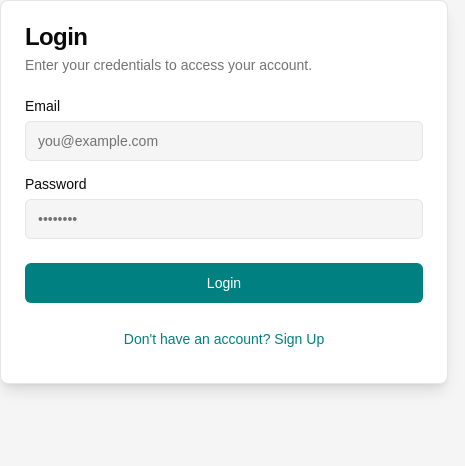
Test case: AuthForm validation › shows schema errors and does not authenticate invalid credentials
Type "invalid" into the field labelled "Email".
click(224, 141); type("invalid")  # box left=25, top=121, right=423, bottom=161
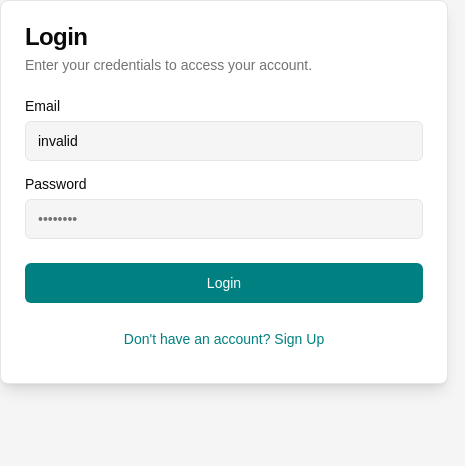
Type "short" into the password field labelled "Password".
click(224, 219); type("short")  # box left=25, top=199, right=423, bottom=239
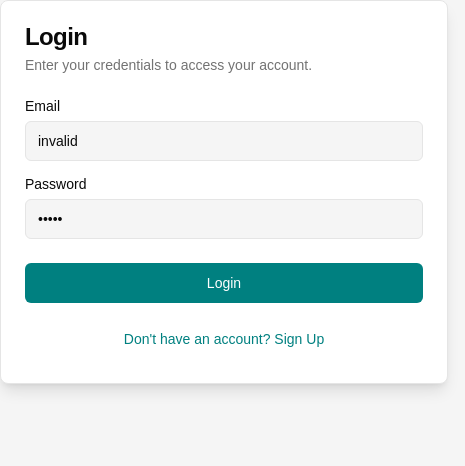
Submit the form "Login", box left=1, top=99, right=447, bottom=383
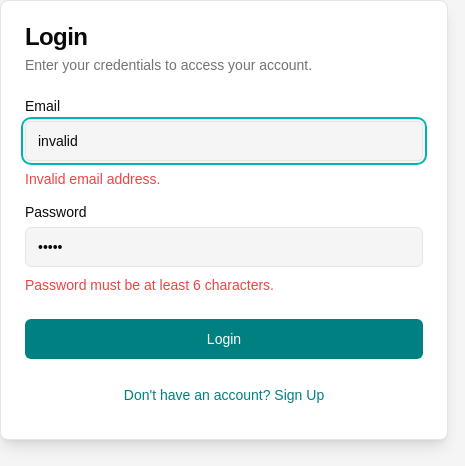
Expected: the text "Invalid email address." is shown, left=25, top=171, right=160, bottom=187
Expected: the text "Password must be at least 6 characters." is shown, left=25, top=277, right=274, bottom=293
